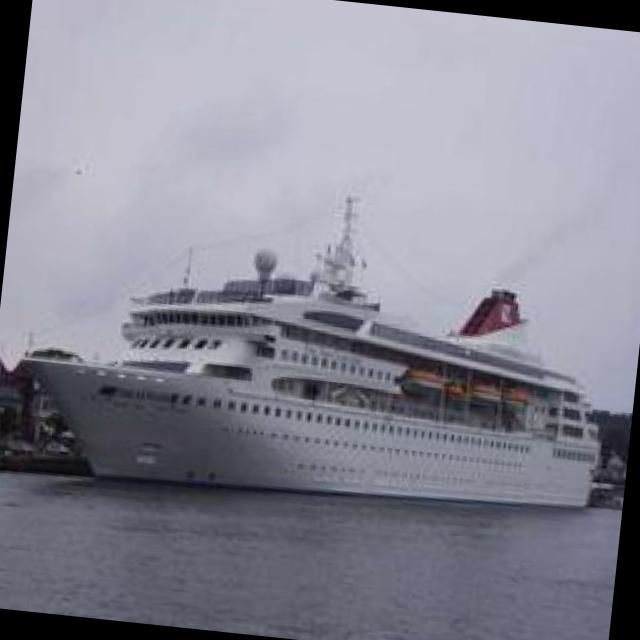boat: (15, 227, 618, 513)
